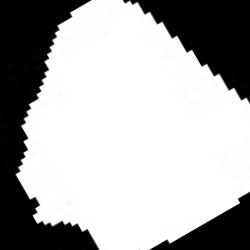spot: (17, 2, 247, 247)
